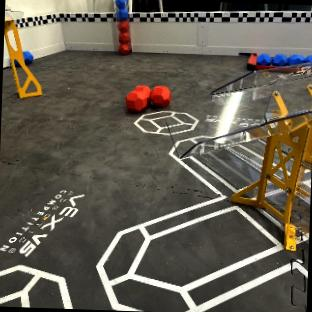Goal: (4, 12, 41, 97)
Low_goal: (265, 181, 287, 211), (246, 189, 258, 198)
Med_goal: (169, 64, 312, 158)
V5_BLUE: (23, 51, 33, 63)
V5_RED: (125, 85, 171, 112), (118, 19, 131, 53)
